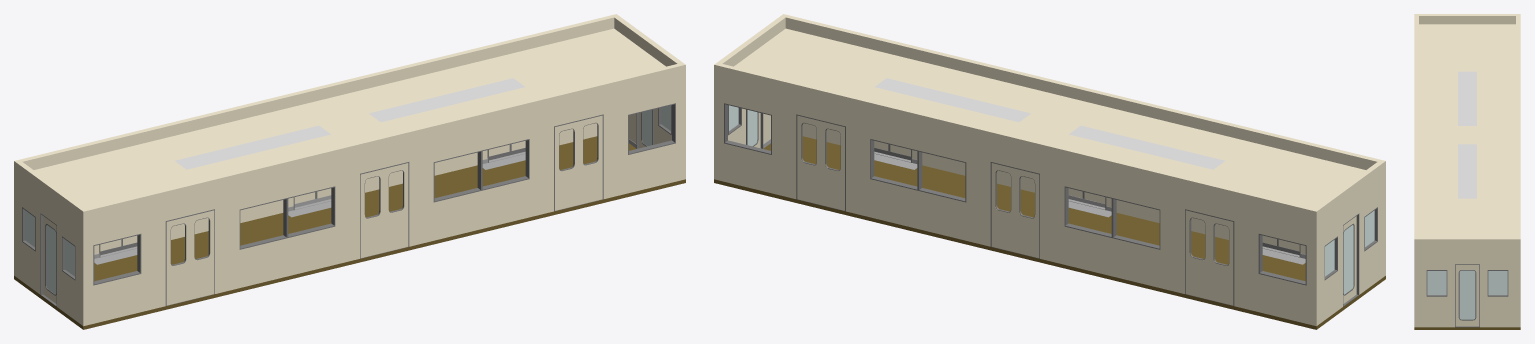
The model's file is S_SubwayCase_PH.fbx.
3 views of the same model, side by side, from view 1: azimuth 30°, elevation 25°; view 2: azimuth 150°, elevation 25°; view 3: azimuth 270°, elevation 25° (orthographic). The views are drawn at different scales.
Visible parts, largest first — view 1: オブジェクト_93, オブジェクト_77, オブジェクト_108, オブジェクト_75, オブジェクト_39, オブジェクト_40, オブジェクト_38, オブジェクト_81, オブジェクト_82, オブジェクト_74, オブジェクト_304, オブジェクト_312 (+2 smaller); view 2: オブジェクト_93, オブジェクト_77, オブジェクト_108, オブジェクト_74, オブジェクト_42, オブジェクト_43, オブジェクト_41, オブジェクト_81, オブジェクト_82, オブジェクト_75, オブジェクト_549, オブジェクト_557 (+2 smaller); view 3: オブジェクト_77, オブジェクト_93, オブジェクト_74, オブジェクト_75, オブジェクト_81, オブジェクト_82, オブジェクト_97, オブジェクト_99, オブジェクト_89, オブジェクト_91, オブジェクト_108, オブジェクト_98 (+3 smaller).
Part boxes in pixels (left/top/right/bottom): オブジェクト_93: left=14, top=14, right=685, bottom=326; オブジェクト_77: left=46, top=37, right=664, bottom=207; オブジェクト_108: left=14, top=136, right=685, bottom=329; オブジェクト_75: left=34, top=28, right=625, bottom=178; オブジェクト_39: left=360, top=163, right=408, bottom=257; オブジェクト_40: left=166, top=210, right=214, bottom=305; オブジェクト_38: left=555, top=115, right=602, bottom=210; オブジェクト_81: left=369, top=78, right=524, bottom=122; オブジェクト_82: left=174, top=125, right=330, bottom=169; オブジェクト_74: left=85, top=66, right=665, bottom=207; オブジェクト_304: left=433, top=139, right=529, bottom=202; オブジェクト_312: left=239, top=186, right=335, bottom=249; オブジェクト_93: left=714, top=14, right=1385, bottom=326; オブジェクト_77: left=735, top=37, right=1353, bottom=207; オブジェクト_108: left=714, top=136, right=1385, bottom=329; オブジェクト_74: left=774, top=28, right=1365, bottom=178; オブジェクト_42: left=991, top=163, right=1039, bottom=257; オブジェクト_43: left=1185, top=210, right=1233, bottom=305; オブジェクト_41: left=797, top=115, right=844, bottom=210; オブジェクト_81: left=875, top=78, right=1030, bottom=122; オブジェクト_82: left=1069, top=125, right=1225, bottom=169; オブジェクト_75: left=734, top=66, right=1314, bottom=207; オブジェクト_549: left=870, top=139, right=966, bottom=202; オブジェクト_557: left=1064, top=186, right=1160, bottom=249; オブジェクト_77: left=1437, top=24, right=1497, bottom=237; オブジェクト_93: left=1414, top=14, right=1520, bottom=327; オブジェクト_74: left=1419, top=24, right=1437, bottom=237; オブジェクト_75: left=1497, top=24, right=1515, bottom=237; オブジェクト_81: left=1458, top=144, right=1476, bottom=198; オブジェクト_82: left=1458, top=71, right=1476, bottom=125; オブジェクト_97: left=1459, top=270, right=1475, bottom=319; オブジェクト_99: left=1455, top=265, right=1479, bottom=326; オブジェクト_89: left=1488, top=271, right=1507, bottom=294; オブジェクト_91: left=1427, top=271, right=1446, bottom=294; オブジェクト_108: left=1414, top=327, right=1520, bottom=329; オブジェクト_98: left=1458, top=270, right=1476, bottom=320.
Bounding box in the file's own units: 1706 × 320 × 340.
